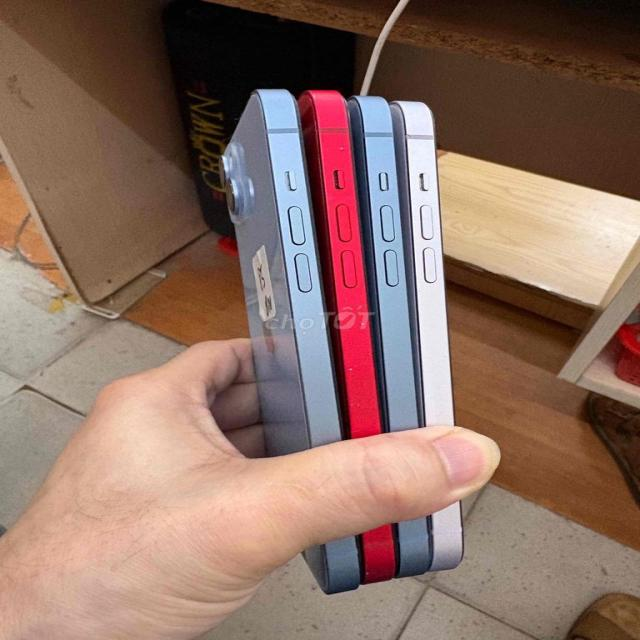gen_14: (204, 93, 366, 603)
